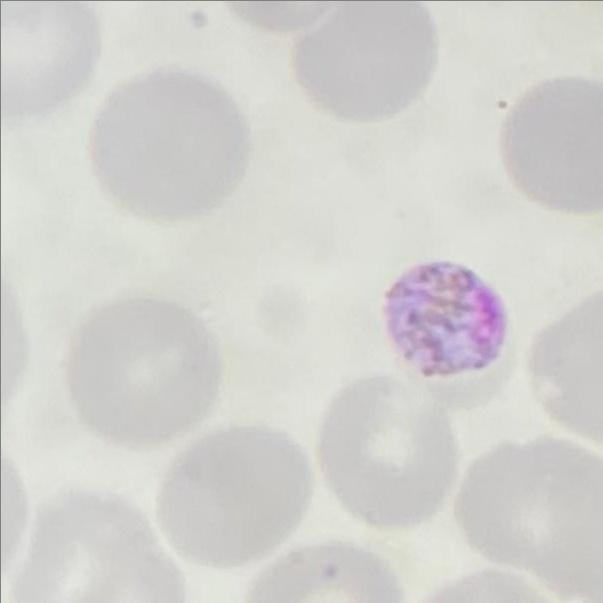Infected: (385, 259, 507, 388)
Uninfected: (62, 296, 223, 451), (93, 72, 244, 226), (460, 442, 603, 603), (162, 426, 312, 568), (318, 381, 453, 533), (18, 491, 168, 603), (295, 0, 437, 118), (507, 74, 603, 215)
